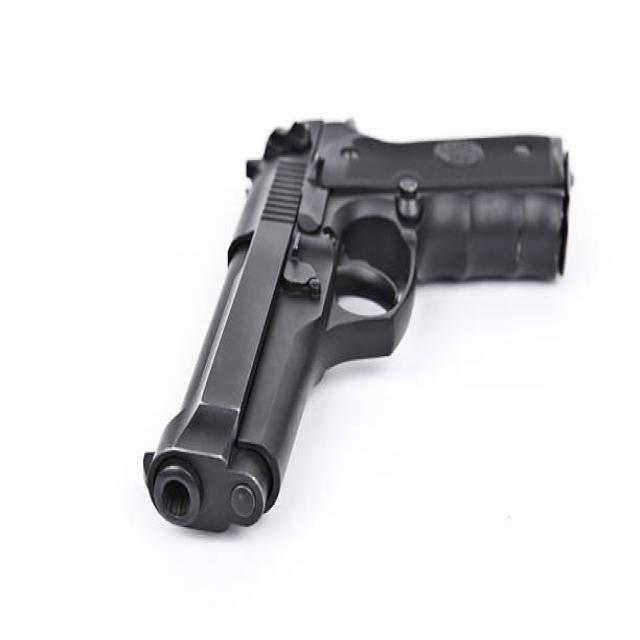pistol: (125, 107, 579, 546)
